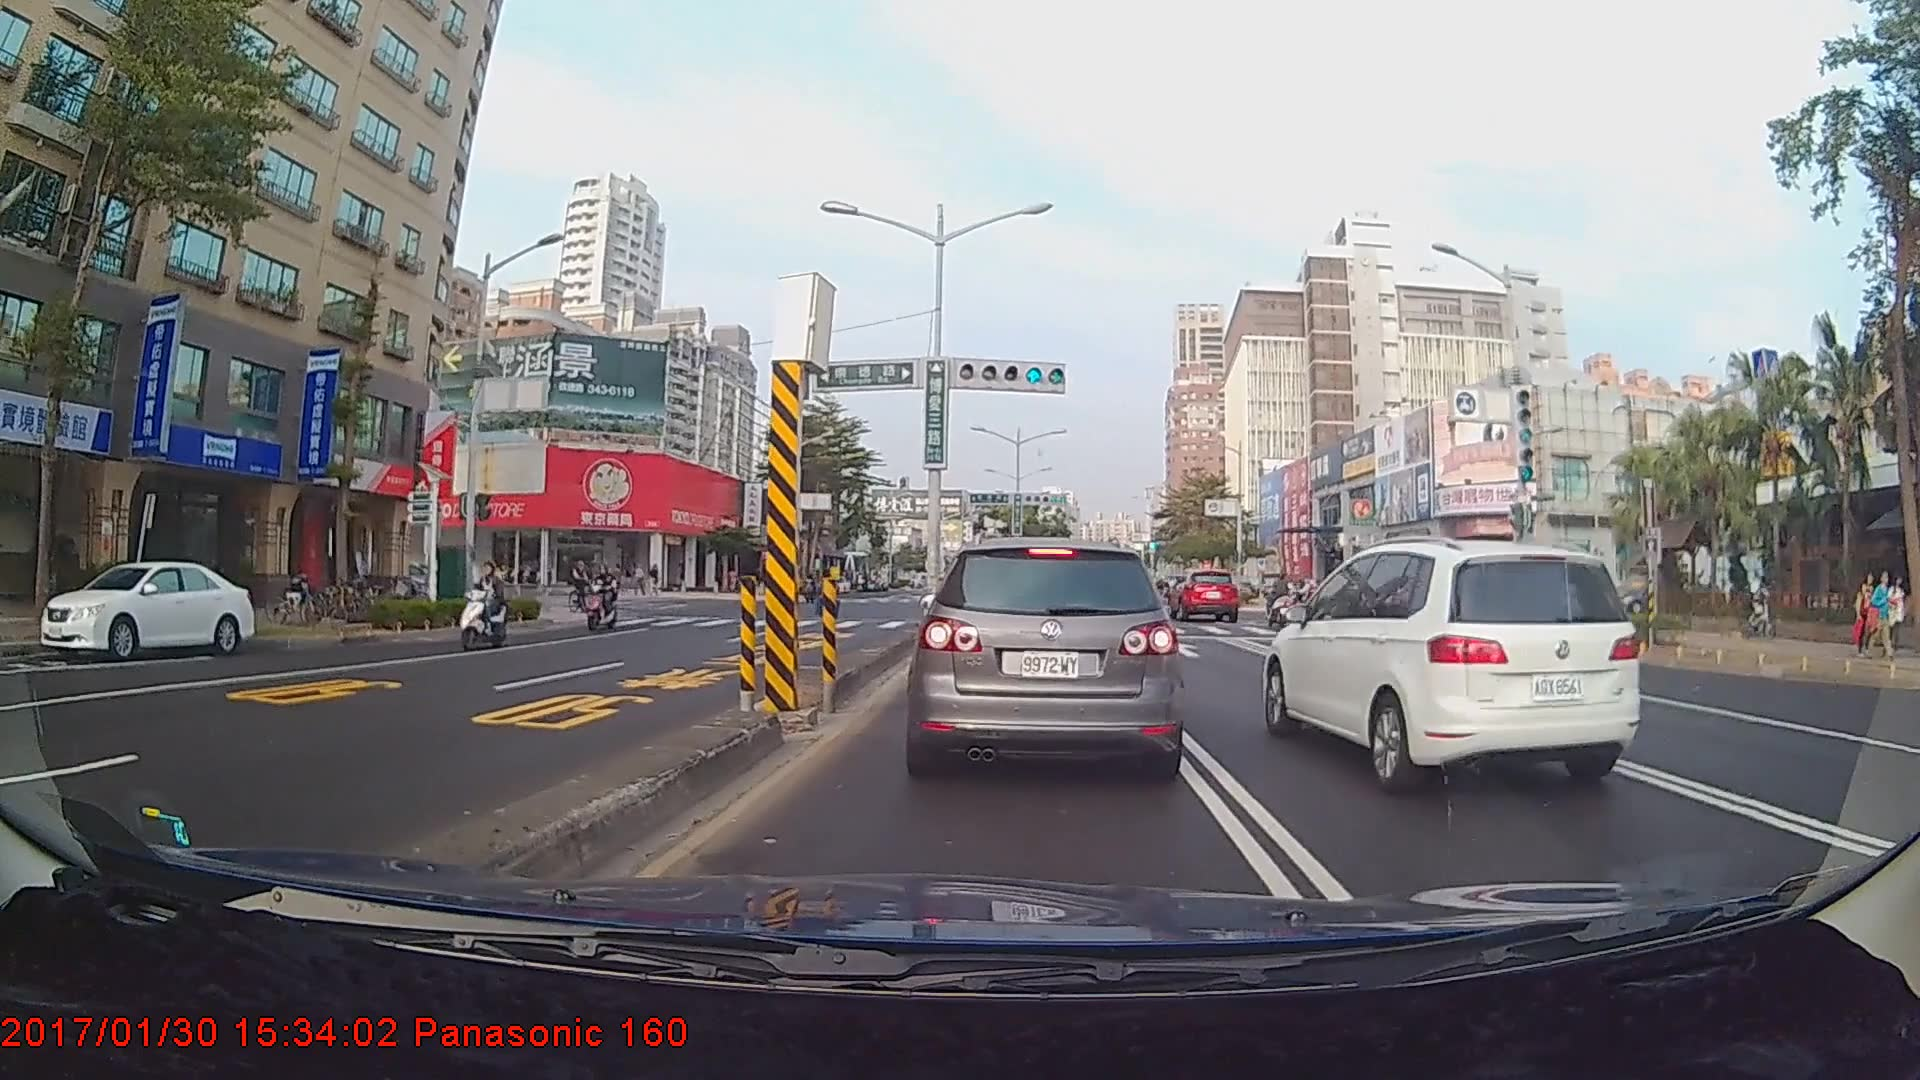pedestrian: (1868, 572, 1895, 662), (1854, 574, 1882, 658), (1884, 572, 1908, 659)
rider: (450, 559, 518, 654), (1739, 560, 1779, 643), (586, 567, 626, 635), (1263, 570, 1304, 629), (572, 556, 605, 620)
vehicle: (1263, 531, 1646, 806), (915, 533, 1179, 776), (43, 558, 250, 662), (1168, 568, 1239, 622)
